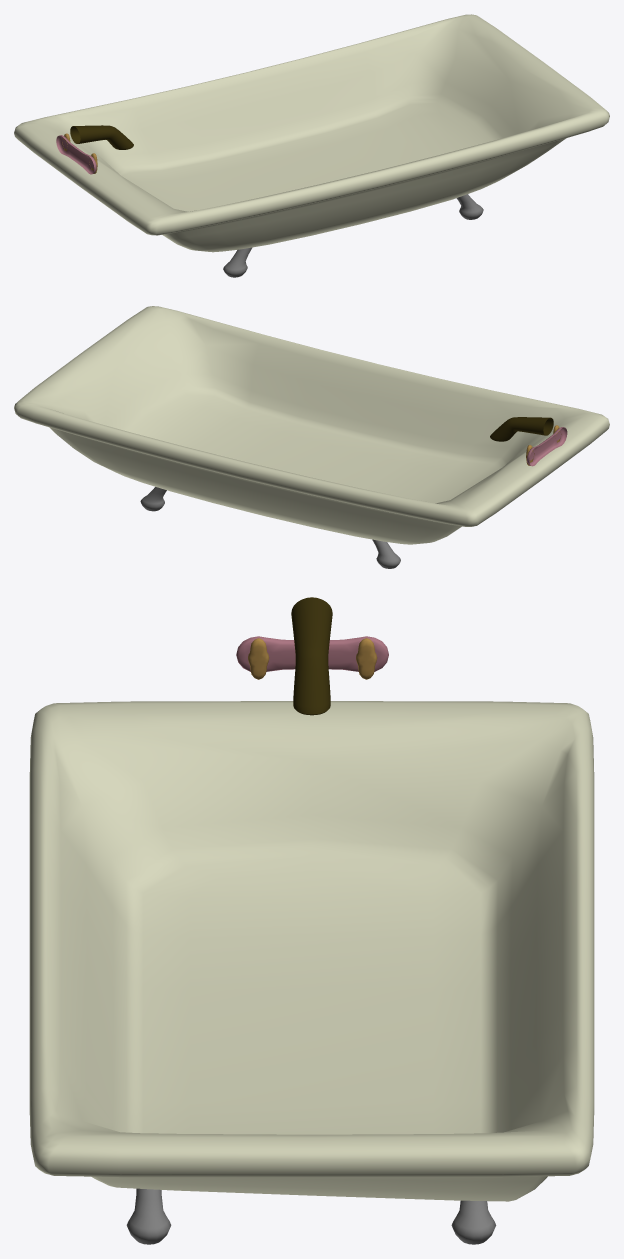
File: BAÑERA.fbx
3 views of the same model, one above another, from view 1: azimuth 30°, elevation 25°; view 2: azimuth 150°, elevation 25°; view 3: azimuth 270°, elevation 25° (orthographic). The views are drawn at different scales.
Visible parts, largest first — view 1: bañera; view 2: bañera; view 3: bañera.
Boxes of the visible parts, x1=… form: bañera: x1=14, y1=14, x2=609, y2=277; bañera: x1=14, y1=306, x2=609, y2=568; bañera: x1=29, y1=597, x2=594, y2=1244.
Size of the model in its own units: 142 by 42.25 by 73.61.
